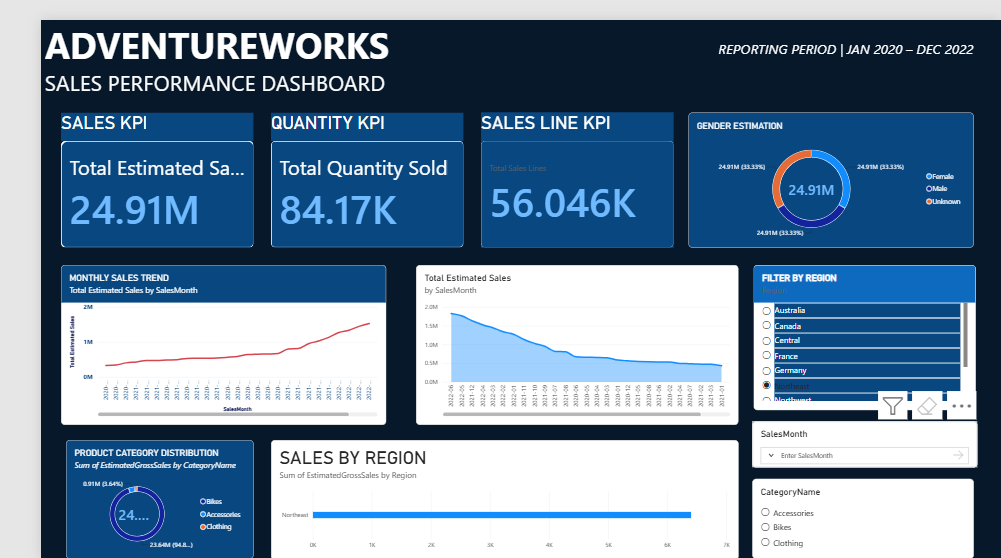

The dashboard page shown, as its layout file describes it:
{"tool":"powerbi","page":{"name":"Page 1","canvas":[1920,1080],"ordinal":0},"visuals":[{"type":"textbox","box":[7.5,0,905,185],"z":0},{"type":"textbox","box":[1355,40,532.5,50],"z":1000},{"type":"cardVisual","title":"SALES KPI","fields":{"Data":["monthly_product_sales.Total Estimated Sales"]},"box":[45,185,385,270],"z":2000},{"type":"cardVisual","title":"QUANTITY KPI","fields":{"Data":["monthly_product_sales.Total Quantity Sold"]},"box":[460,185,385,270],"z":3000},{"type":"cardVisual","title":"SALES LINE KPI","fields":{"Data":["monthly_product_sales.Total Sales Lines"]},"box":[880,185,385,270],"z":4000},{"type":"lineChart","title":"MONTHLY SALES TREND","fields":{"Category":["monthly_product_sales.SalesMonth"],"Y":["monthly_product_sales.Total Estimated Sales"]},"box":[40,490,650,320],"z":4001},{"type":"donutChart","title":"PRODUCT CATEGORY DISTRIBUTION","fields":{"Category":["monthly_product_sales.CategoryName"],"Y":["Sum(monthly_product_sales.EstimatedGrossSales)"]},"box":[50,840,375,217.5],"z":4002},{"type":"clusteredBarChart","title":"SALES BY REGION","fields":{"Category":["regional_sales.Region"],"Y":["Sum(regional_sales.EstimatedGrossSales)"]},"box":[460,840,935,217.5],"z":4003},{"type":"donutChart","title":"GENDER ESTIMATION","fields":{"Category":["customer_sales.Gender"],"Y":["Sum(monthly_product_sales.EstimatedGrossSales)"]},"box":[1295,185,570,270],"z":4004},{"type":"areaChart","fields":{"Category":["monthly_product_sales.SalesMonth"],"Y":["monthly_product_sales.Total Estimated Sales"]},"box":[732.5,490,662.5,320],"z":4005},{"type":"listSlicer","title":"FILTER BY REGION","fields":{"Values":["regional_sales.Region"]},"box":[1425,490,445,290],"z":4006},{"type":"listSlicer","fields":{"Values":["monthly_product_sales.CategoryName"]},"box":[1422.5,917.5,450,140],"z":4007},{"type":"textSlicer","fields":{"Values":["monthly_product_sales.SalesMonth"]},"box":[1422.5,802.5,450,92.5],"z":4008}]}

Visuals, with their boxes in screenshot pixels (x1, y1, x2, y2), scaled from the page's 1920x1080 canvas onto the 1001x558 screenshot:
textbox: l=4, t=0, r=476, b=96
textbox: l=706, t=21, r=984, b=47
"SALES KPI" cardVisual: l=23, t=96, r=224, b=235
"QUANTITY KPI" cardVisual: l=240, t=96, r=441, b=235
"SALES LINE KPI" cardVisual: l=459, t=96, r=660, b=235
"MONTHLY SALES TREND" lineChart: l=21, t=253, r=360, b=419
"PRODUCT CATEGORY DISTRIBUTION" donutChart: l=26, t=434, r=222, b=546
"SALES BY REGION" clusteredBarChart: l=240, t=434, r=727, b=546
"GENDER ESTIMATION" donutChart: l=675, t=96, r=972, b=235
areaChart - monthly_product_sales.SalesMonth x monthly_product_sales.Total Estimated Sales: l=382, t=253, r=727, b=419
"FILTER BY REGION" listSlicer: l=743, t=253, r=975, b=403
listSlicer - monthly_product_sales.CategoryName: l=742, t=474, r=976, b=546
textSlicer - monthly_product_sales.SalesMonth: l=742, t=415, r=976, b=462
